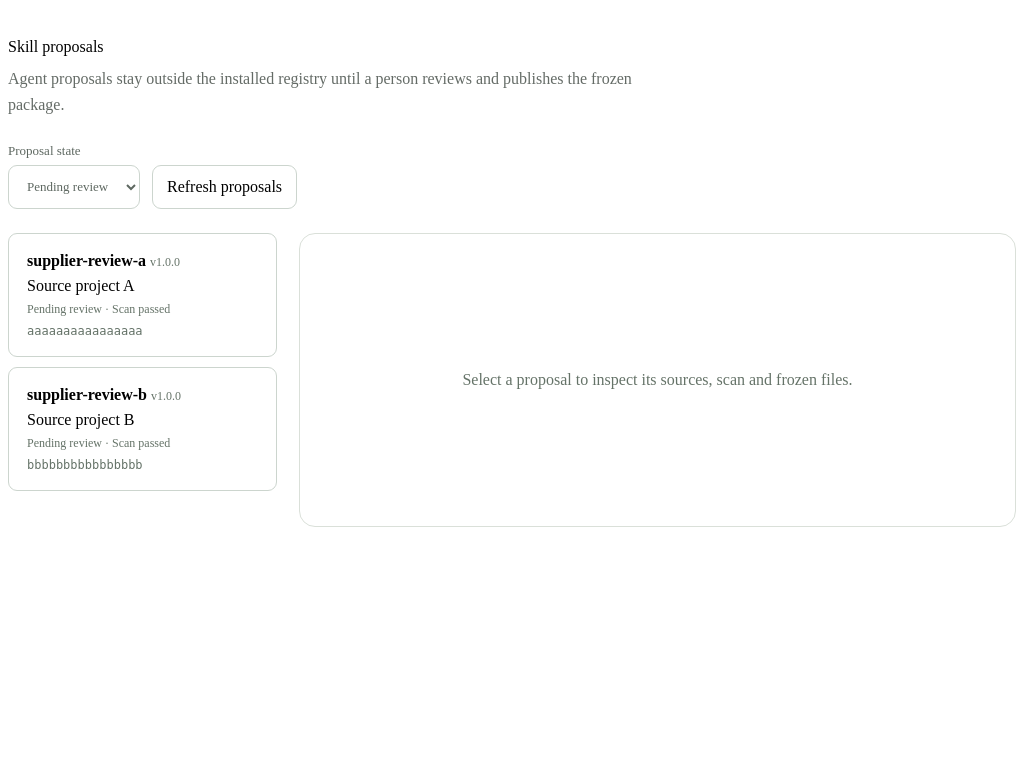
Test: SkillProposalsPanel › shows real sources, scans and frozen files, rendering text without executing HTML
Click the button that starts with "supplier-review-a" at [87, 260], box x1=8 y1=233 x2=277 y2=357
(page scrolled)
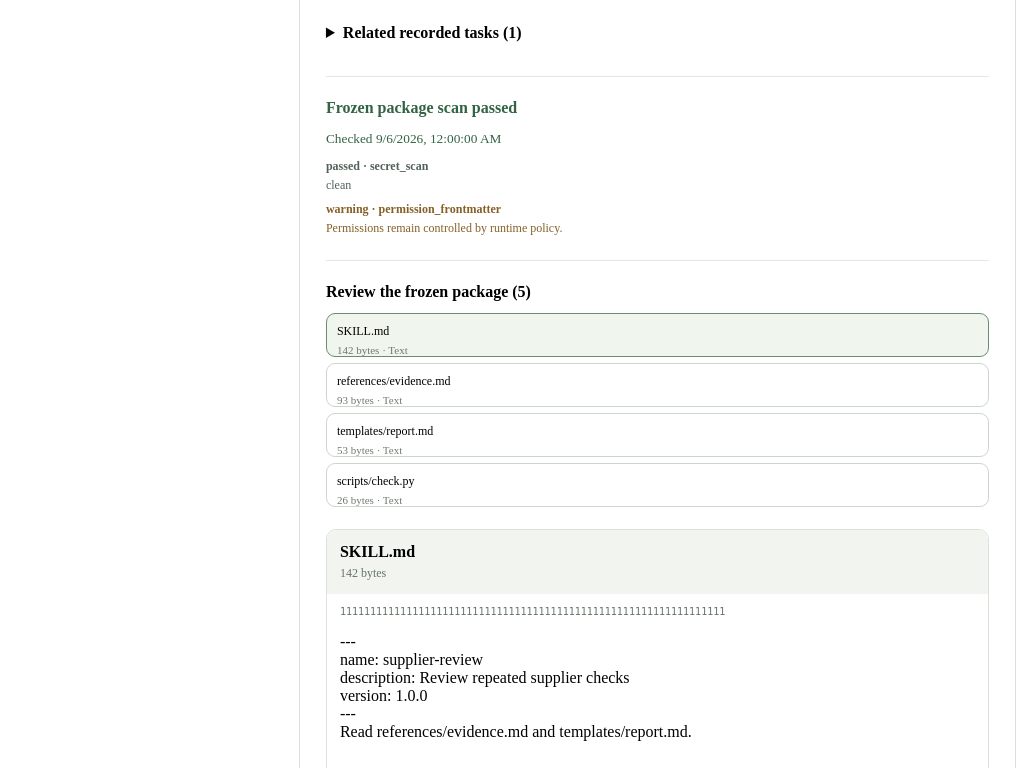
Expected: the text "Permissions remain controlled by runtime policy." is shown, x1=326 y1=221 x2=562 y2=235
Click the button "references/evidence.md 93 bytes · Text" at [394, 381], box x1=326 y1=363 x2=989 y2=407
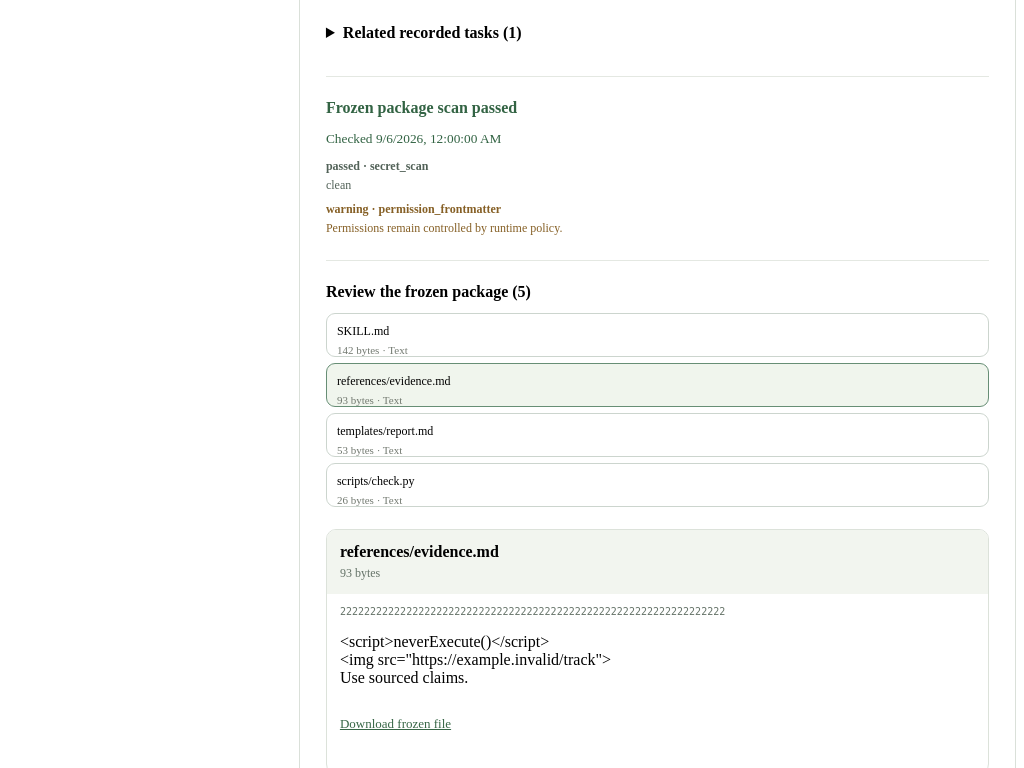
Click the button "scripts/check.py 26 bytes · Text" at [376, 481], box x1=326 y1=463 x2=989 y2=507
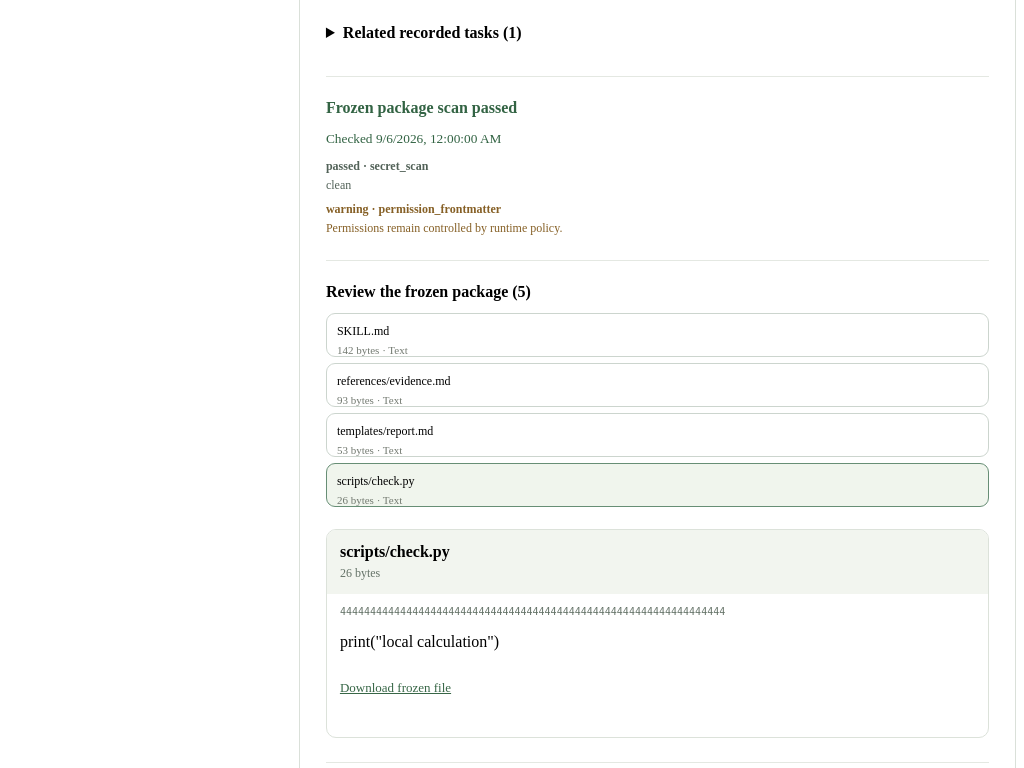
Expected: the text "print(\"local calculation\")" is shown, x1=340 y1=633 x2=499 y2=650
